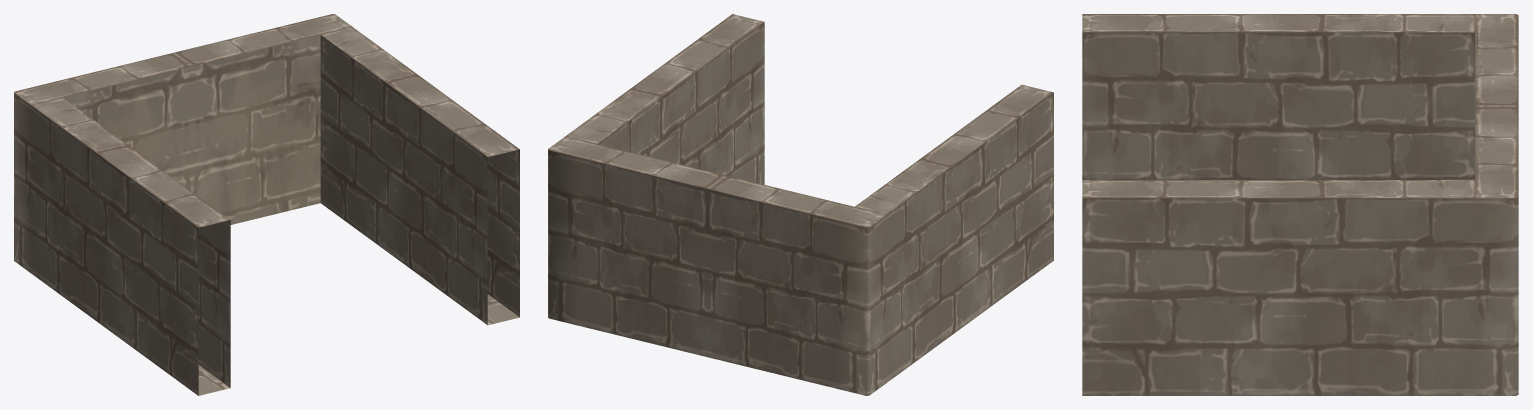
The model's file is Stairs_Exterior_SidesU.gltf.
The picture shows the model from 3 angles, left to right: view 1: azimuth 30°, elevation 25°; view 2: azimuth 150°, elevation 25°; view 3: azimuth 270°, elevation 25°; orthographic projection. The views are drawn at different scales.
Parts seen in each view (by area): view 1: Stairs_Exterior_SidesU; view 2: Stairs_Exterior_SidesU; view 3: Stairs_Exterior_SidesU.
Boxes of the visible parts, x1,y1,x2,y2 form: Stairs_Exterior_SidesU: (14, 14, 519, 395); Stairs_Exterior_SidesU: (548, 14, 1053, 395); Stairs_Exterior_SidesU: (1082, 14, 1518, 395).
Bounding box in the file's own units: 2 × 1 × 2.
Materials: 1 (1 with a texture image).
